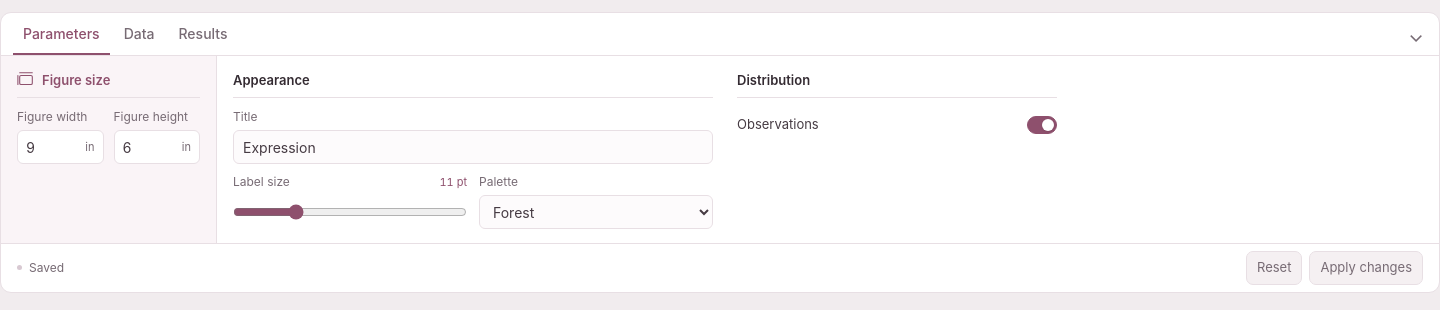
Scenario: figure size has a stable first position and other groups keep their labels
The image size is (1440, 310).
Expected: the field labelled "Title" is shown, [233,130,713,164]
Expected: the checkbox labelled "Observations" is shown, [1027,116,1057,134]
Replace the text in the number field labelled "Figure width" with "15" at (50, 147), box [18,131,82,163]
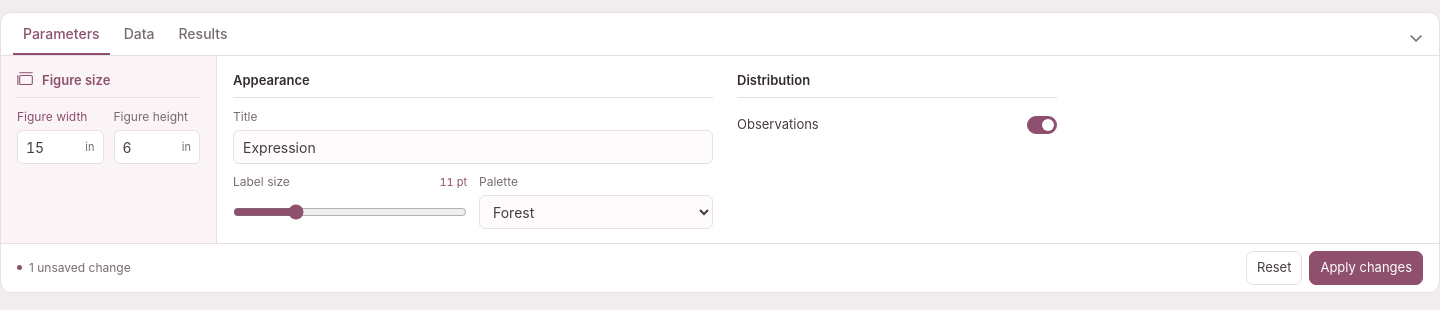
Click the checkbox labelled "Observations" at (1042, 125), box [1027,116,1057,134]
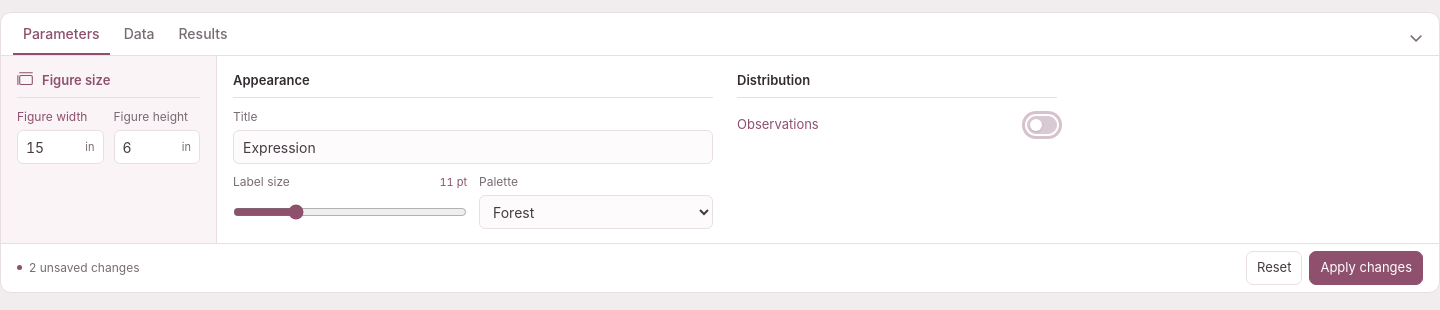
Click the button "Reset" at (1274, 268), box [1246,251,1302,284]
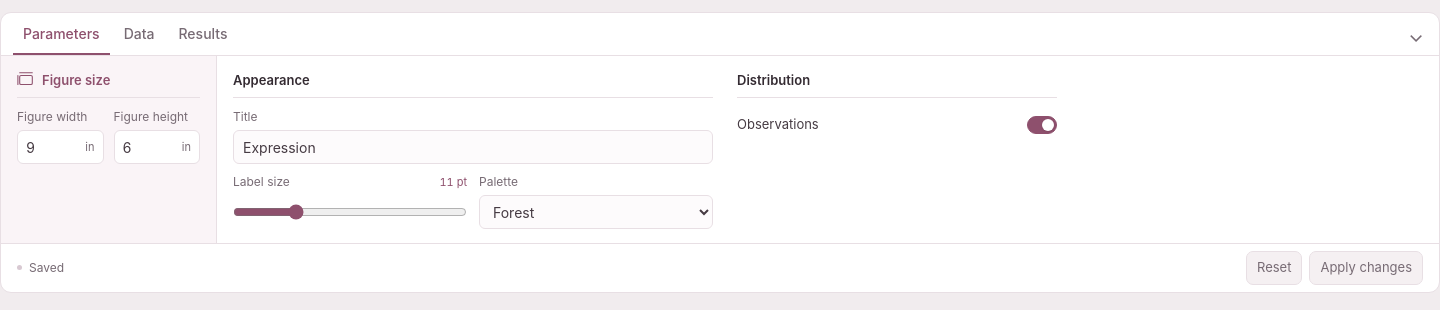
Result: the checkbox labelled "Observations" is checked at [1027,116,1057,134]
Result: the number field labelled "Figure width" holds "9" at [18,131,82,163]
Result: the button with aria-label "Apply as new version" is disabled at [1309,251,1423,284]
